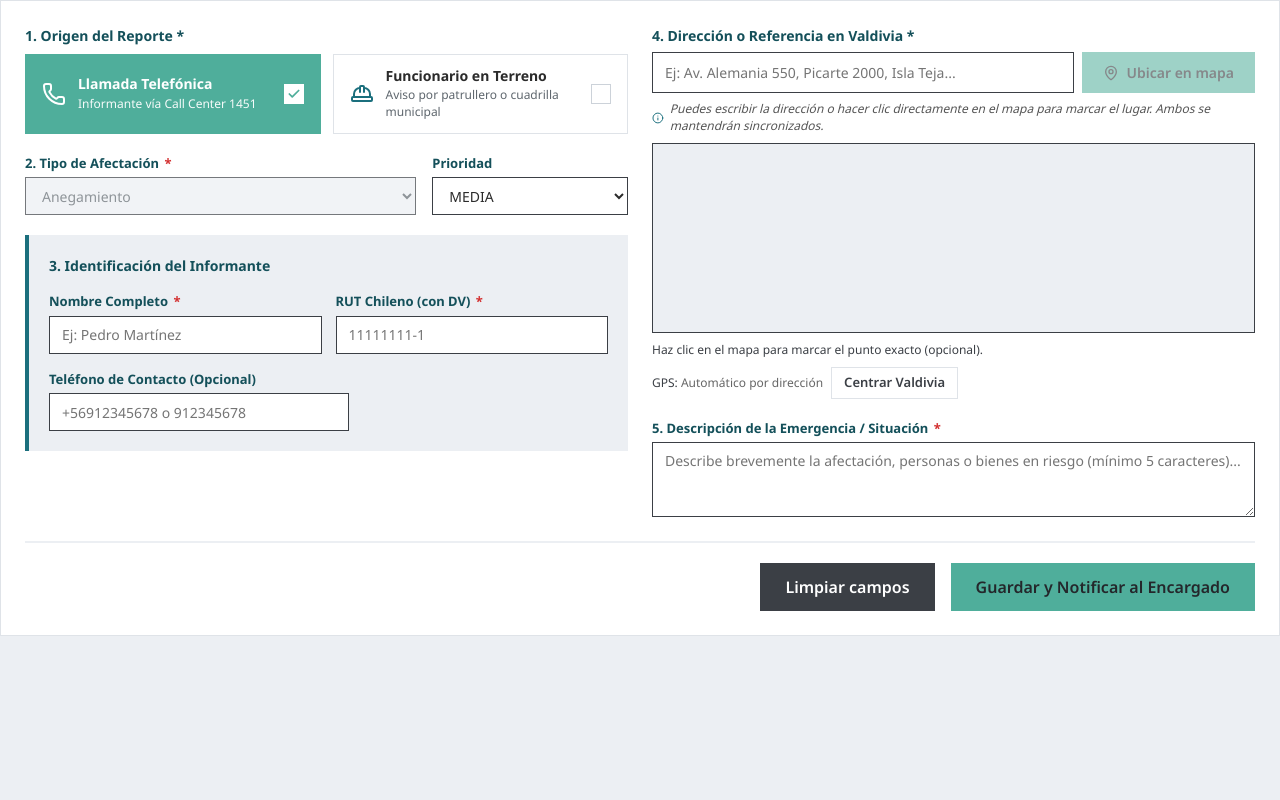
Test case: IncidenteManualForm › debe procesar exitosamente y mostrar la tarjeta de éxito con códigos
The width and height of the screenshot is (1280, 800).
Type "Av. Alemania 550" into the field labelled "4. Dirección o Referencia en Valdivia *" at (863, 72), box [652,52,1074,93]
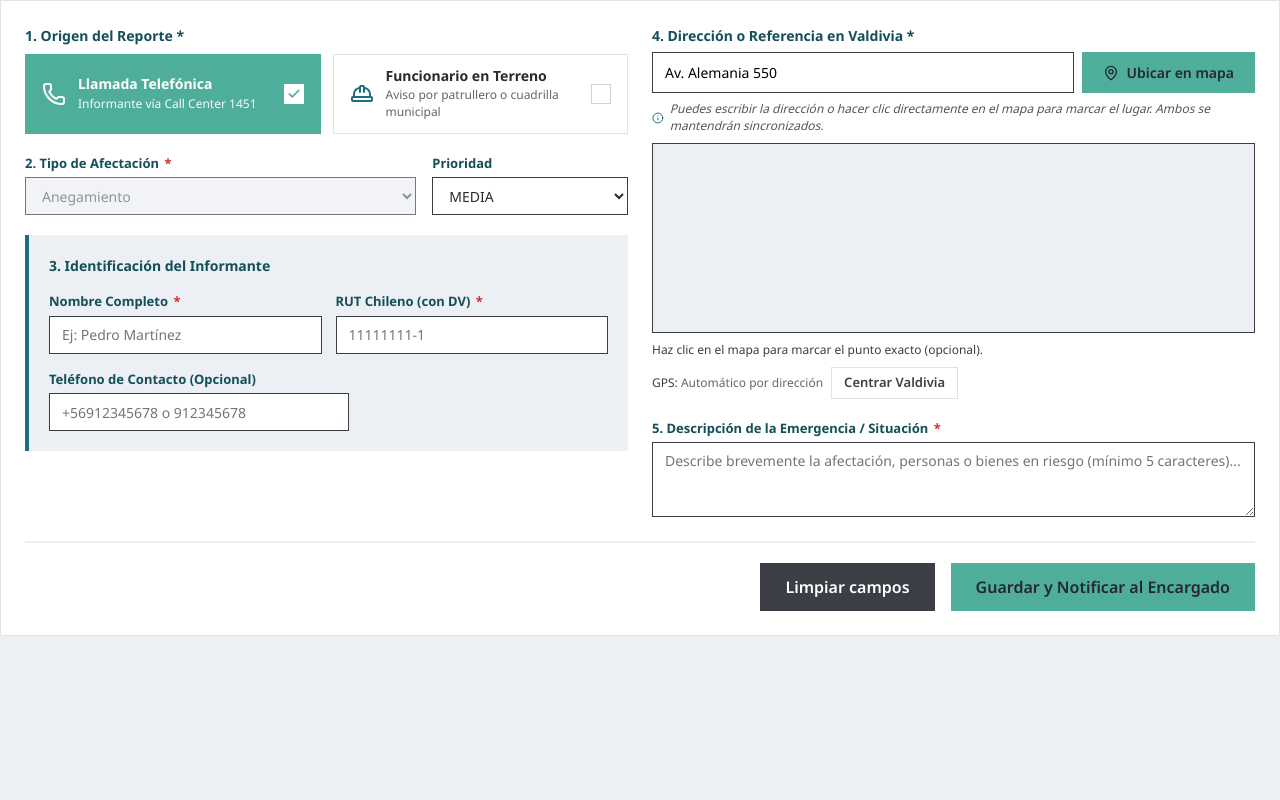
Replace the text in the text box labelled "5. Descripción de la Emergencia / Situación *" with "Calle anegada por lluvias torrenciales" at (954, 480), box [652,442,1255,517]
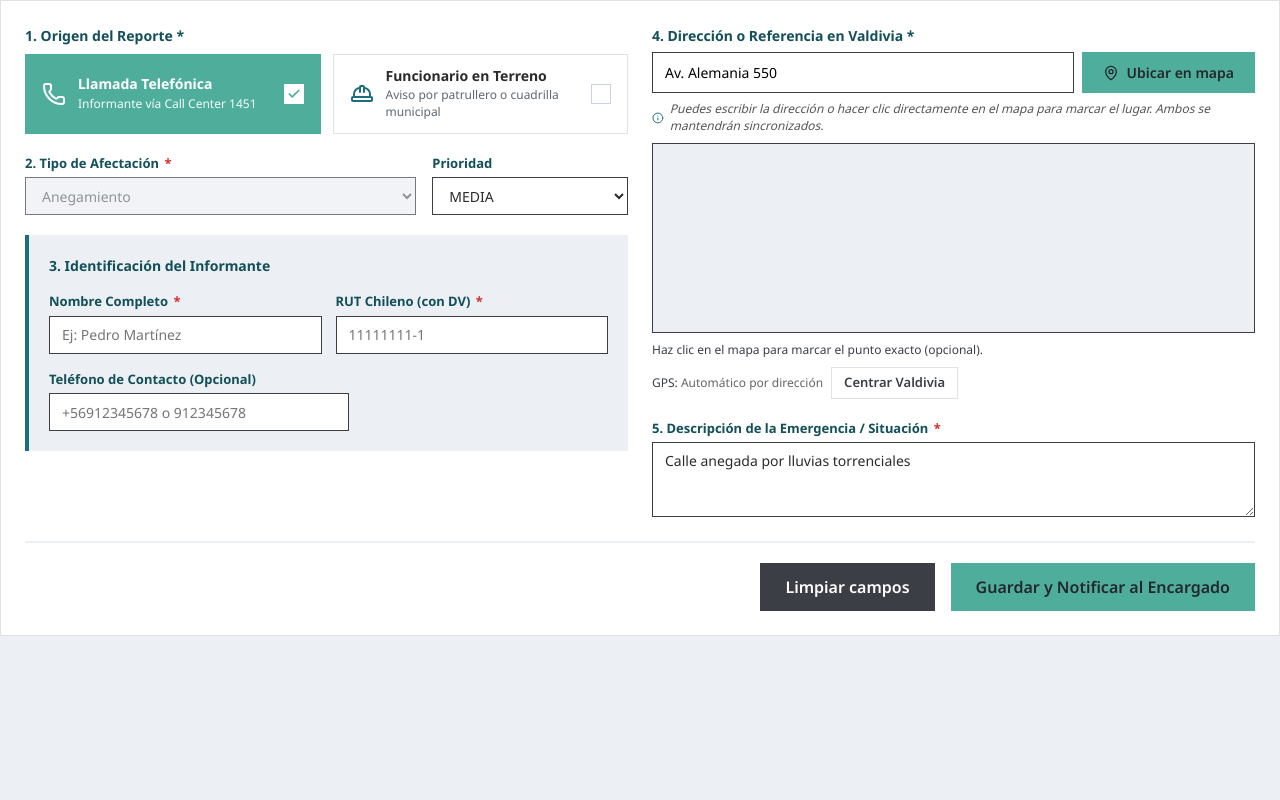
Type "Carlos Miranda" into the field labelled "Nombre Completo *" at (185, 335), box [49,316,322,354]
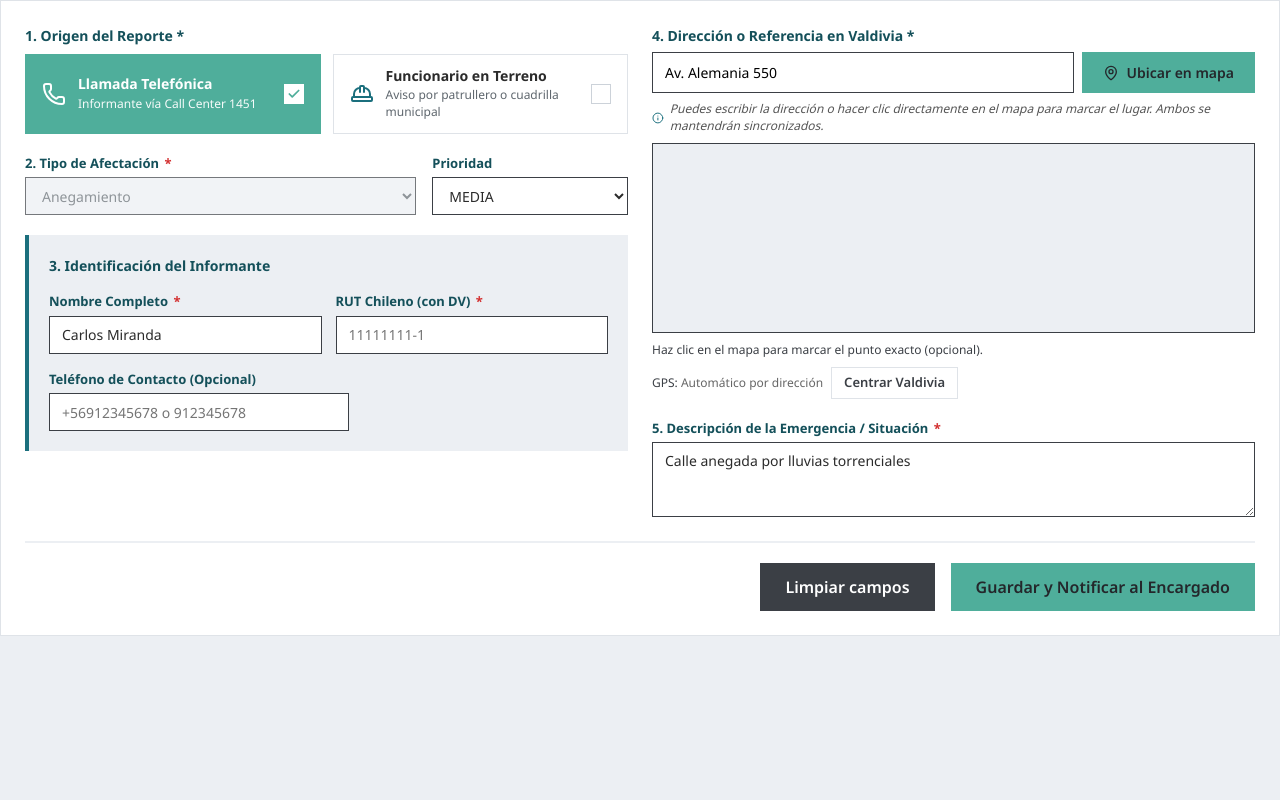
Type "111111111" into the field labelled "RUT Chileno (con DV) *" at (472, 335), box [336,316,608,354]
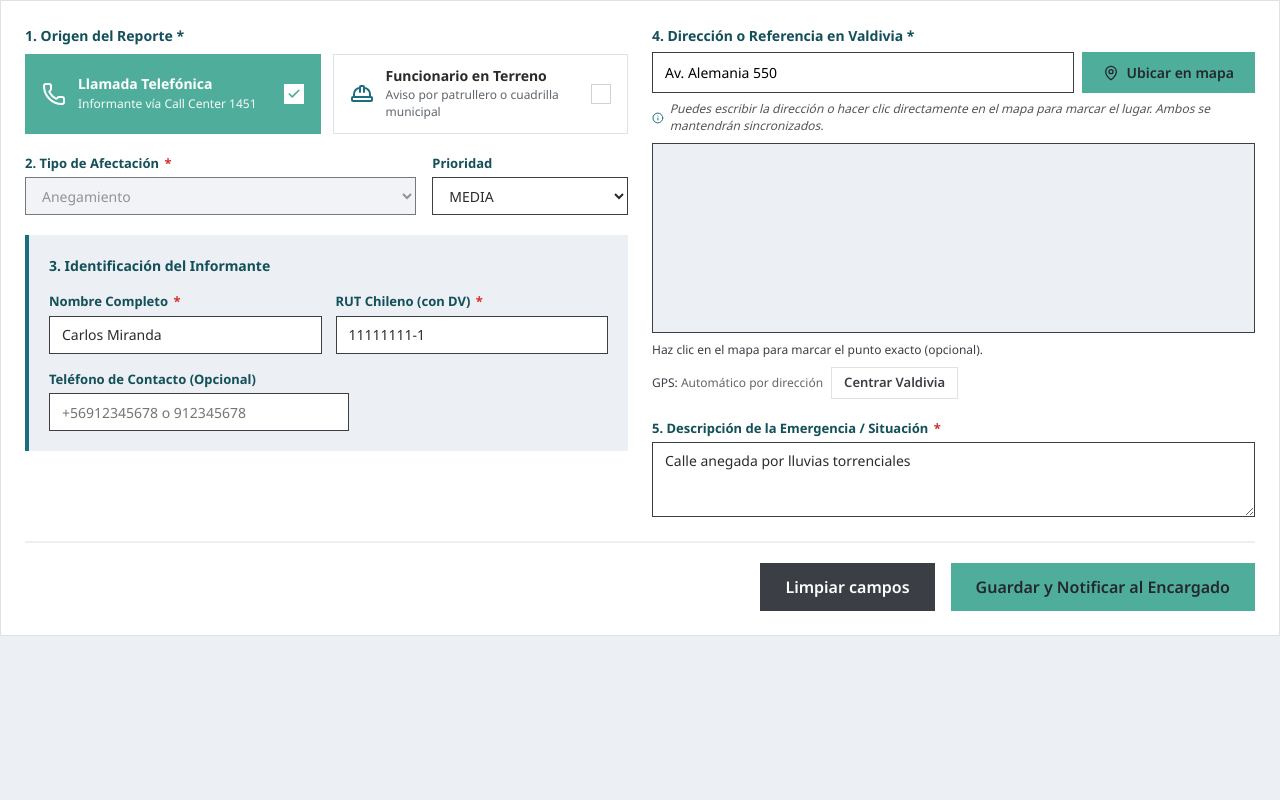
Click the button "Guardar y Notificar al Encargado" at (1103, 587), box [951,563,1255,611]
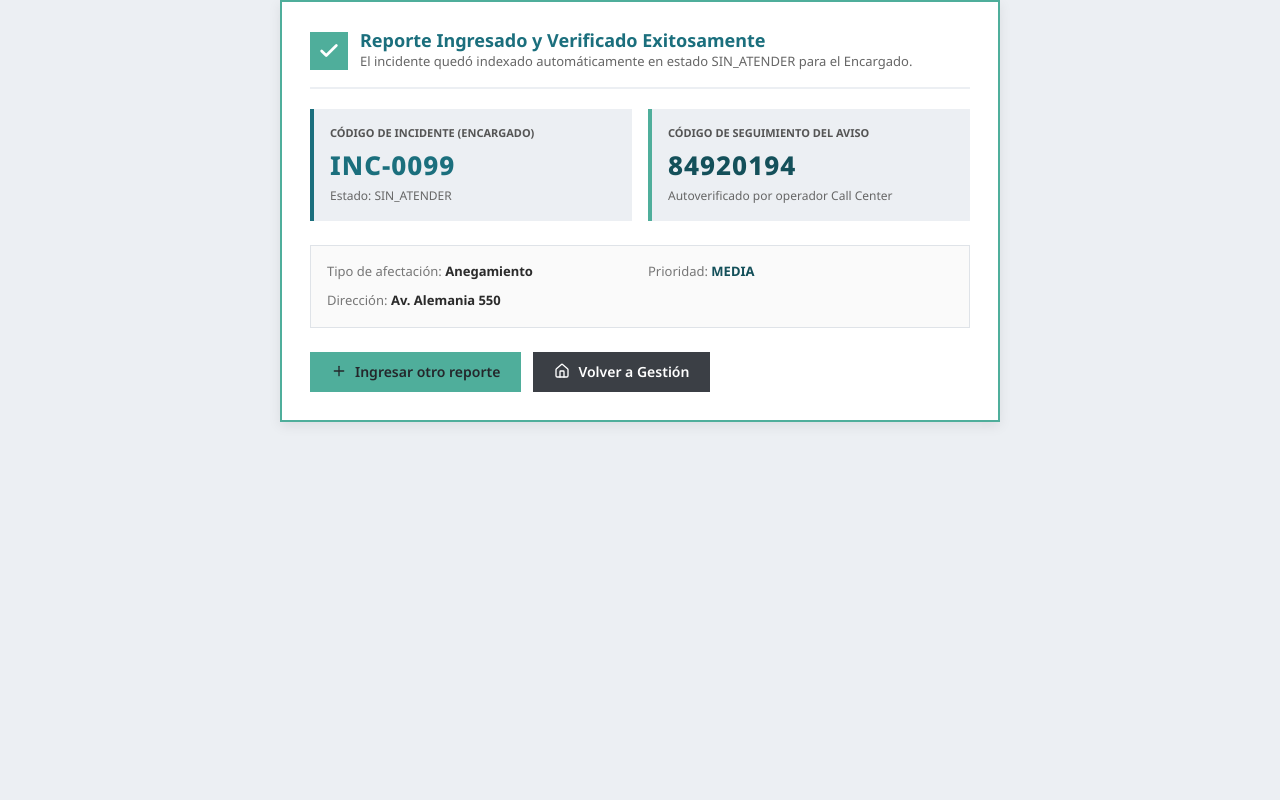
Check: the heading "Reporte Ingresado y Verificado Exitosamente" is shown, box [360,28,766,52]
Check: the text "INC-0099" is shown, box [330,147,455,183]
Check: the text "84920194" is shown, box [668,147,796,183]
